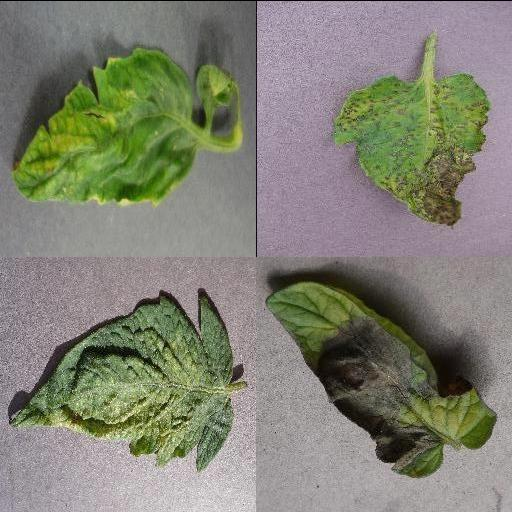Late Blight: (262, 280, 500, 478)
Septoria: (332, 71, 486, 227)
Spider Mites: (10, 296, 234, 472)
Yellow Leaf Curl Virus: (12, 46, 196, 206)
